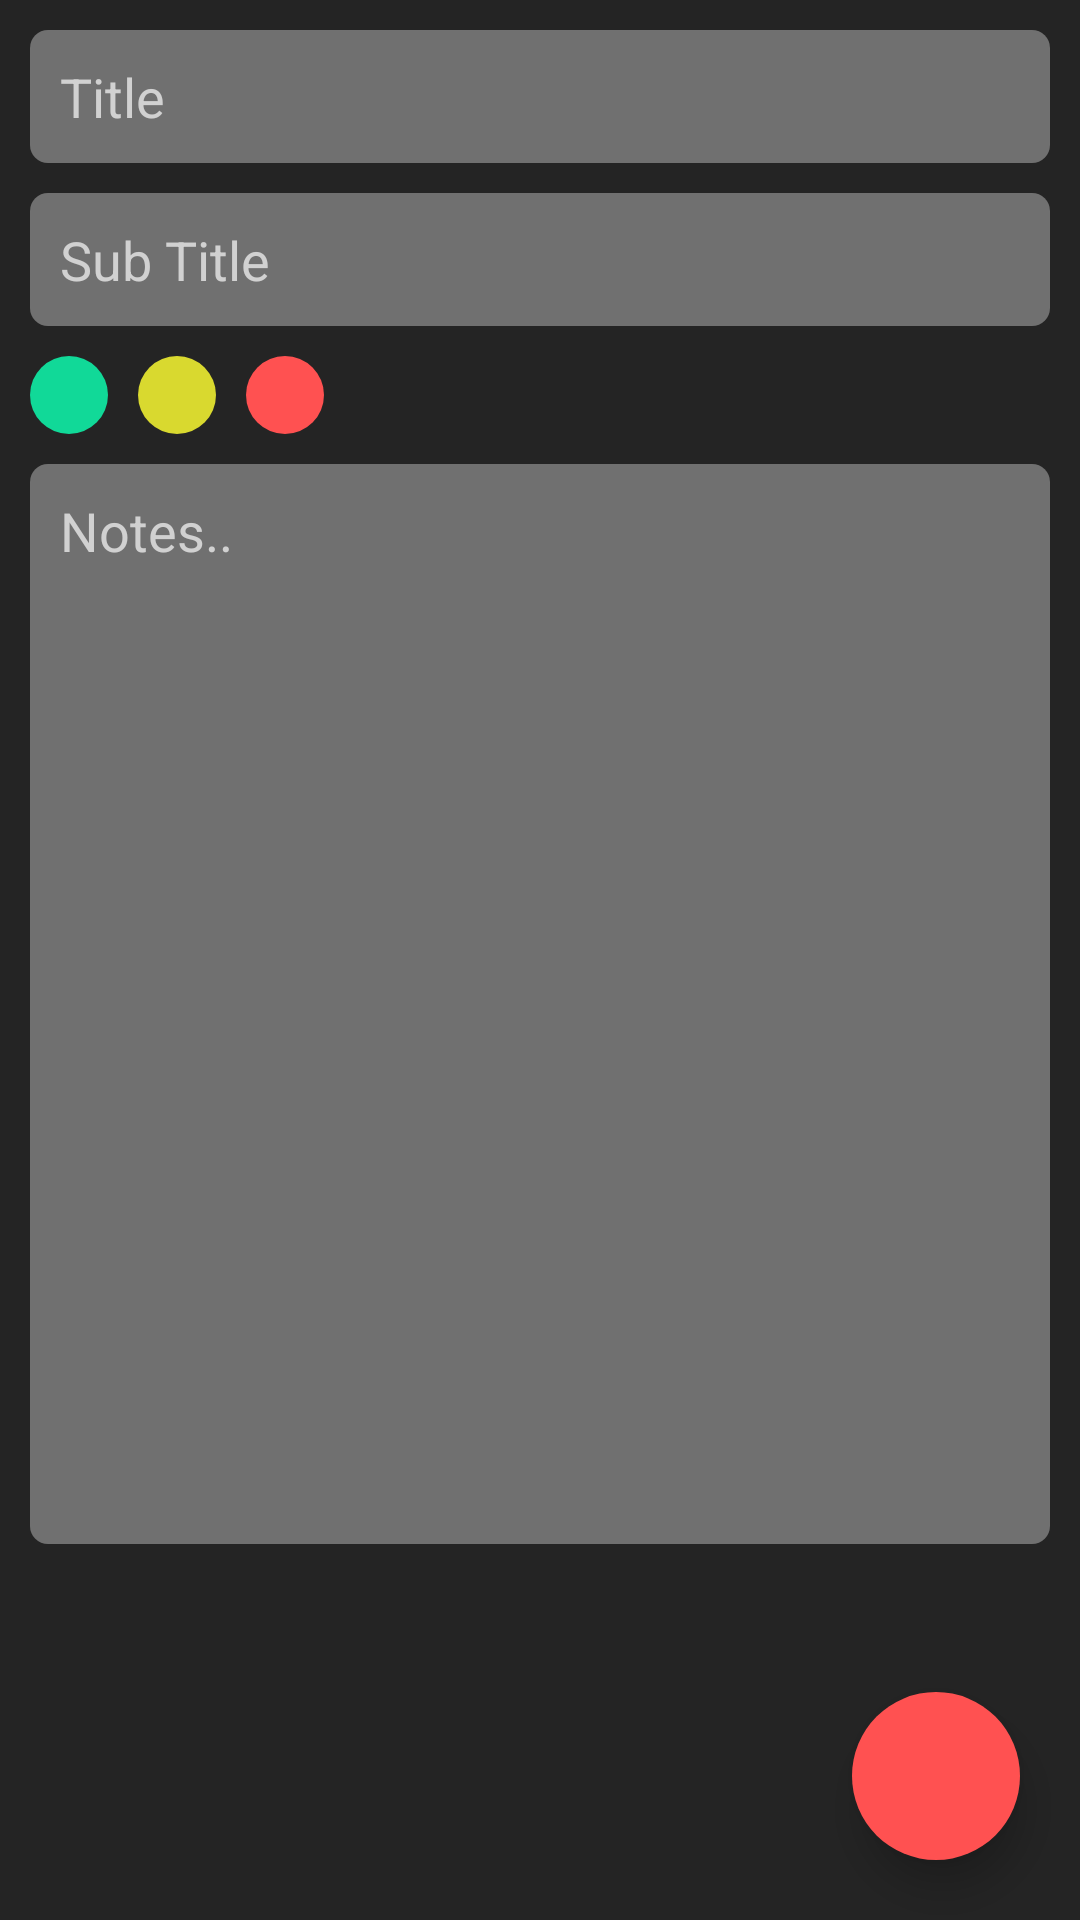

Named icons in this screenshot (1080px×1920px) and their bounding boxes, {"left": x1, "top": y1, "right": x2, "bottom": y2}:
dot: {"left": 30, "top": 356, "right": 108, "bottom": 434}, {"left": 138, "top": 356, "right": 216, "bottom": 434}, {"left": 246, "top": 356, "right": 324, "bottom": 434}
